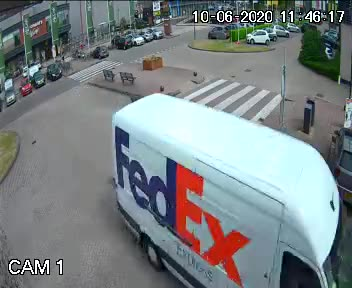car: (93, 96, 352, 288)
